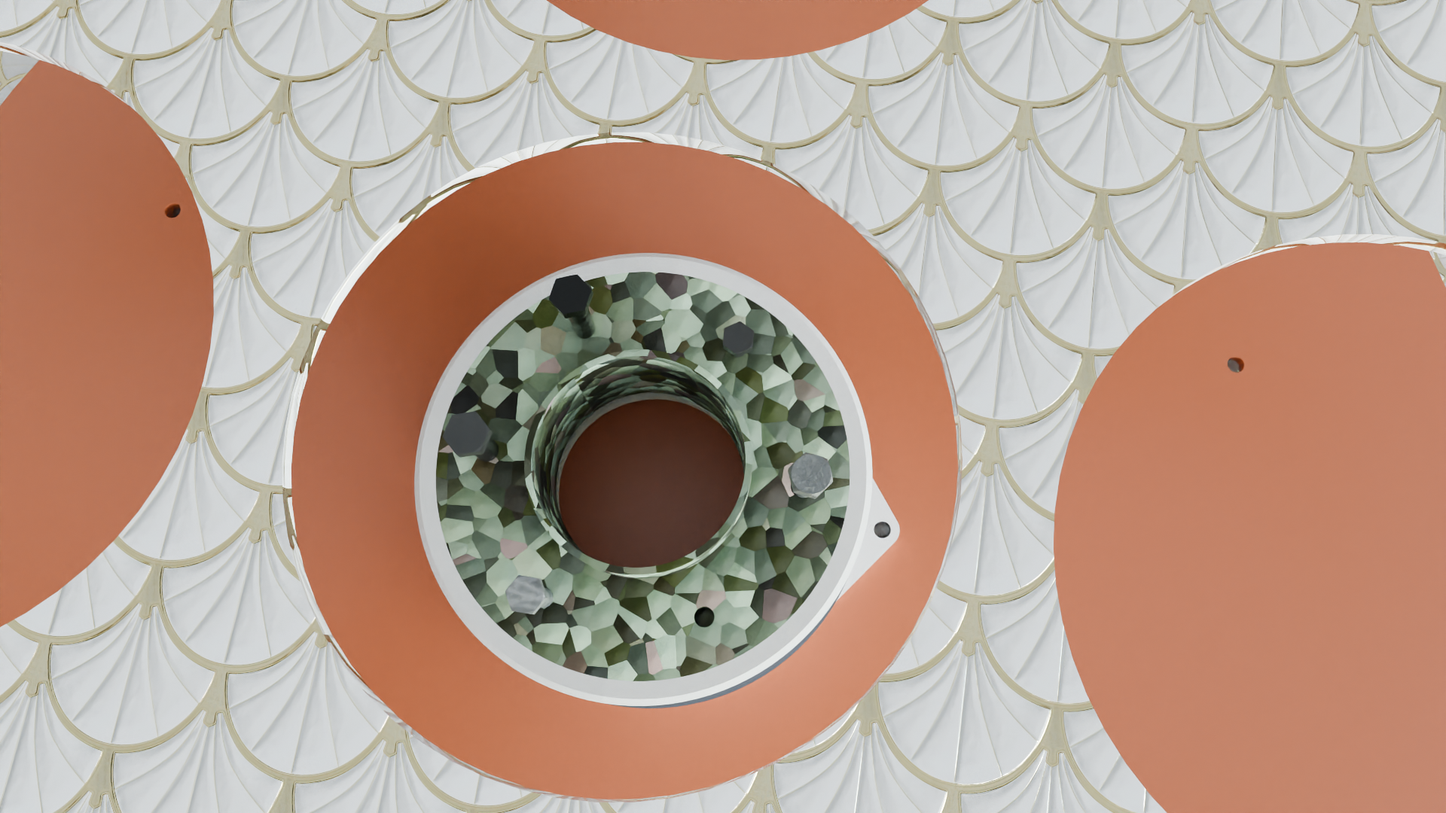bolt: (443, 412, 490, 455), (789, 452, 833, 497), (549, 274, 592, 315), (505, 575, 545, 614), (723, 321, 754, 355)
